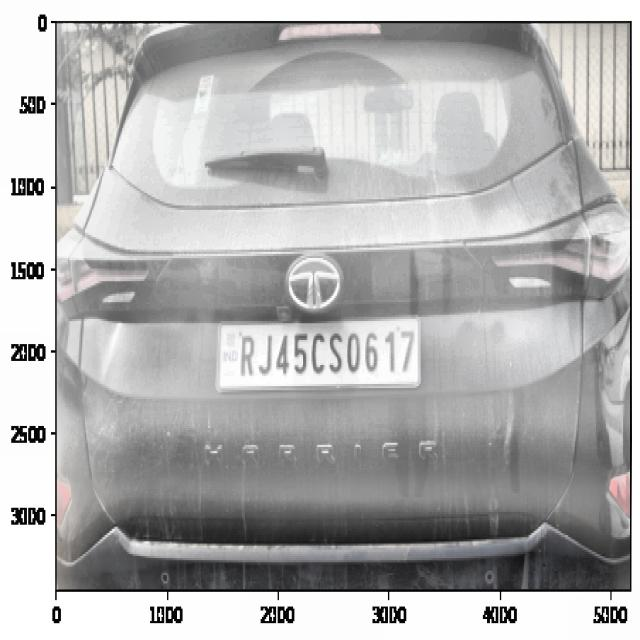license_plate: (234, 322, 419, 396)
